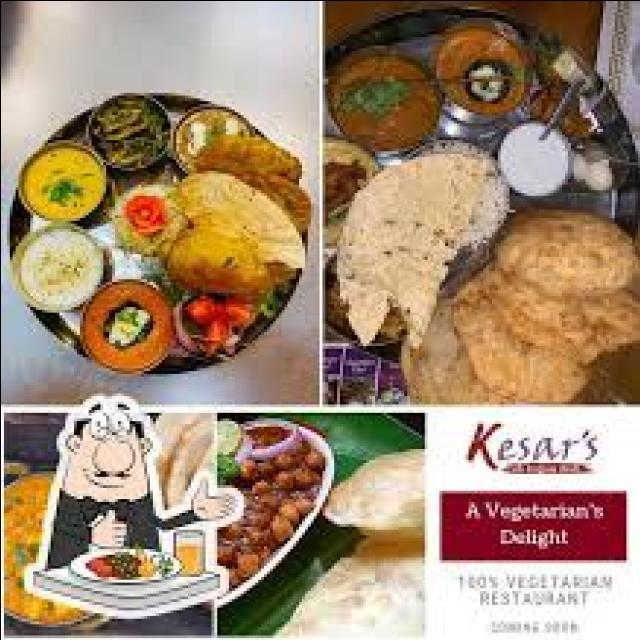dal: (13, 143, 109, 222)
papad: (329, 147, 491, 332), (165, 175, 302, 289), (145, 418, 213, 519)
raita: (7, 222, 104, 312), (496, 123, 574, 196)
rice: (490, 124, 575, 194)
roti: (408, 229, 634, 394), (144, 424, 213, 516), (61, 438, 150, 501)
sambar-rasam: (169, 531, 213, 575)
sweet: (71, 279, 183, 376), (322, 445, 418, 540), (452, 51, 525, 117), (171, 531, 209, 575)
